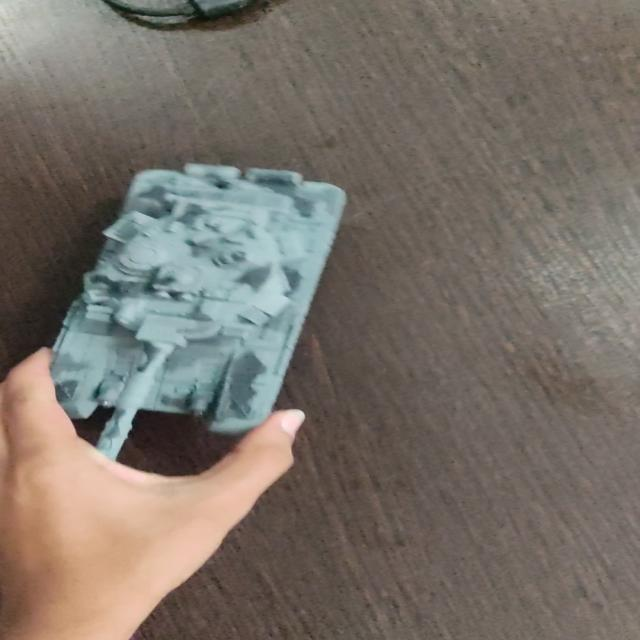tank: (54, 166, 349, 467)
